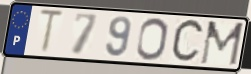7: (70, 12, 99, 56)
9: (104, 15, 134, 58)
C: (168, 17, 206, 66)
M: (198, 20, 246, 68)
O: (135, 17, 170, 62)
T: (37, 7, 67, 56)
